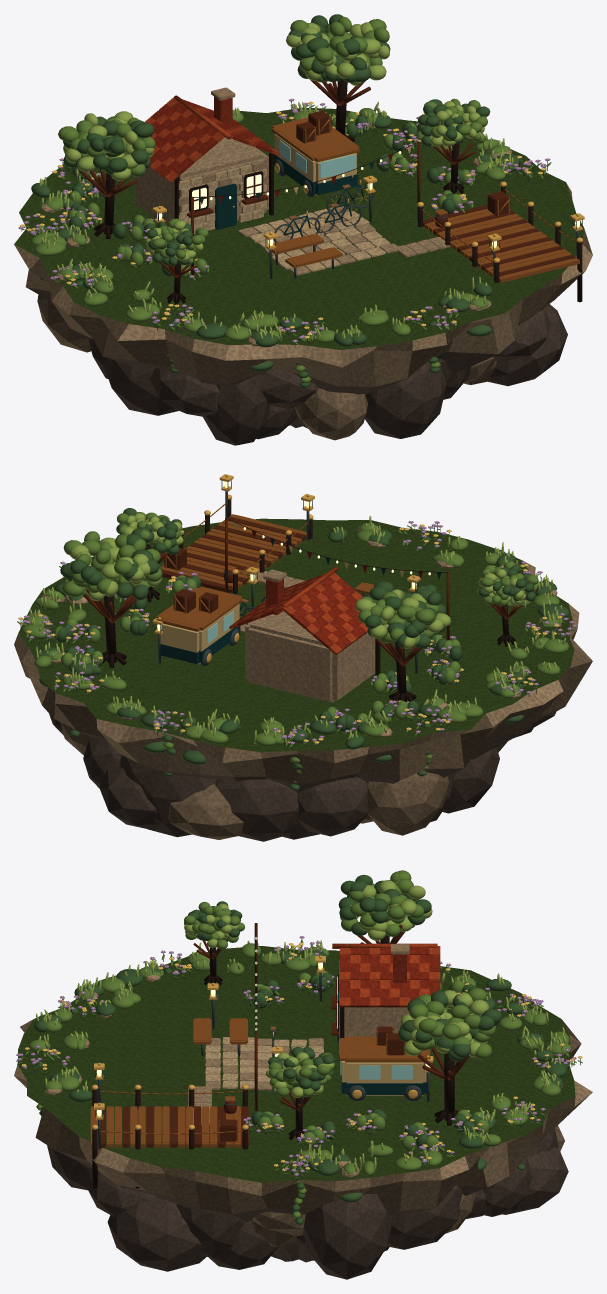
Rendered from backroads.glb.
3 views of the same model, one above another, from view 1: azimuth 30°, elevation 25°; view 2: azimuth 150°, elevation 25°; view 3: azimuth 270°, elevation 25° (orthographic). The views are drawn at different scales.
Visible parts, largest first — view 1: GEO-backroads-grass.001, GEO-backroads-rock.001, GEO-backroads-rockLight.001, GEO-backroads-leaf.001, GEO-backroads-leafDark.001, GEO-backroads-stone.001, GEO-backroads-leafLight.001, GEO-backroads-oak.001, GEO-backroads-wood.001, GEO-backroads-stoneLight.001, GEO-backroads-darkwood.001, GEO-backroads-tile.001 (+9 smaller); view 2: GEO-backroads-grass.001, GEO-backroads-rockLight.001, GEO-backroads-rock.001, GEO-backroads-leaf.001, GEO-backroads-stone.001, GEO-backroads-leafDark.001, GEO-backroads-leafLight.001, GEO-backroads-oak.001, GEO-backroads-wood.001, GEO-backroads-tile.001, GEO-backroads-darkwood.001, GEO-backroads-purple.001 (+6 smaller); view 3: GEO-backroads-grass.001, GEO-backroads-rock.001, GEO-backroads-leaf.001, GEO-backroads-rockLight.001, GEO-backroads-leafDark.001, GEO-backroads-stone.001, GEO-backroads-leafLight.001, GEO-backroads-oak.001, GEO-backroads-wood.001, GEO-backroads-tile.001, GEO-backroads-darkwood.001, GEO-backroads-tileLight.001 (+8 smaller).
Boxes of the visible parts, x1,y1,x2,y2 form: GEO-backroads-grass.001: (14, 107, 584, 349); GEO-backroads-rock.001: (26, 287, 567, 445); GEO-backroads-rockLight.001: (25, 269, 584, 440); GEO-backroads-leaf.001: (21, 16, 551, 383); GEO-backroads-leafDark.001: (21, 14, 547, 387); GEO-backroads-stone.001: (14, 87, 592, 367); GEO-backroads-leafLight.001: (39, 22, 513, 342); GEO-backroads-oak.001: (271, 110, 579, 282); GEO-backroads-wood.001: (78, 79, 575, 277); GEO-backroads-stoneLight.001: (178, 164, 390, 271); GEO-backroads-darkwood.001: (94, 79, 582, 304); GEO-backroads-tile.001: (149, 100, 274, 178); GEO-backroads-grass.001: (18, 518, 574, 752); GEO-backroads-rockLight.001: (14, 629, 592, 839); GEO-backroads-rock.001: (26, 676, 563, 841); GEO-backroads-leaf.001: (17, 512, 574, 783); GEO-backroads-stone.001: (14, 526, 592, 763); GEO-backroads-leafDark.001: (20, 508, 574, 790); GEO-backroads-leafLight.001: (29, 513, 565, 743); GEO-backroads-oak.001: (156, 503, 405, 631); GEO-backroads-wood.001: (83, 517, 524, 665); GEO-backroads-tile.001: (235, 574, 366, 650); GEO-backroads-darkwood.001: (101, 499, 515, 704); GEO-backroads-purple.001: (22, 521, 577, 744); GEO-backroads-grass.001: (17, 946, 575, 1182); GEO-backroads-rock.001: (47, 1128, 568, 1279); GEO-backroads-leaf.001: (16, 870, 582, 1218); GEO-backroads-rockLight.001: (14, 1028, 591, 1246); GEO-backroads-leafDark.001: (18, 875, 580, 1224); GEO-backroads-stone.001: (14, 944, 592, 1195); GEO-backroads-leafLight.001: (36, 880, 566, 1172); GEO-backroads-oak.001: (90, 1018, 430, 1147); GEO-backroads-wood.001: (100, 923, 469, 1147); GEO-backroads-tile.001: (339, 948, 440, 1007); GEO-backroads-darkwood.001: (92, 923, 458, 1188); GEO-backroads-tileLight.001: (332, 943, 440, 1007).
Bounding box in the file's own units: 26.65 × 15.07 × 26.95.
Materials: 24 (14 with a texture image).
